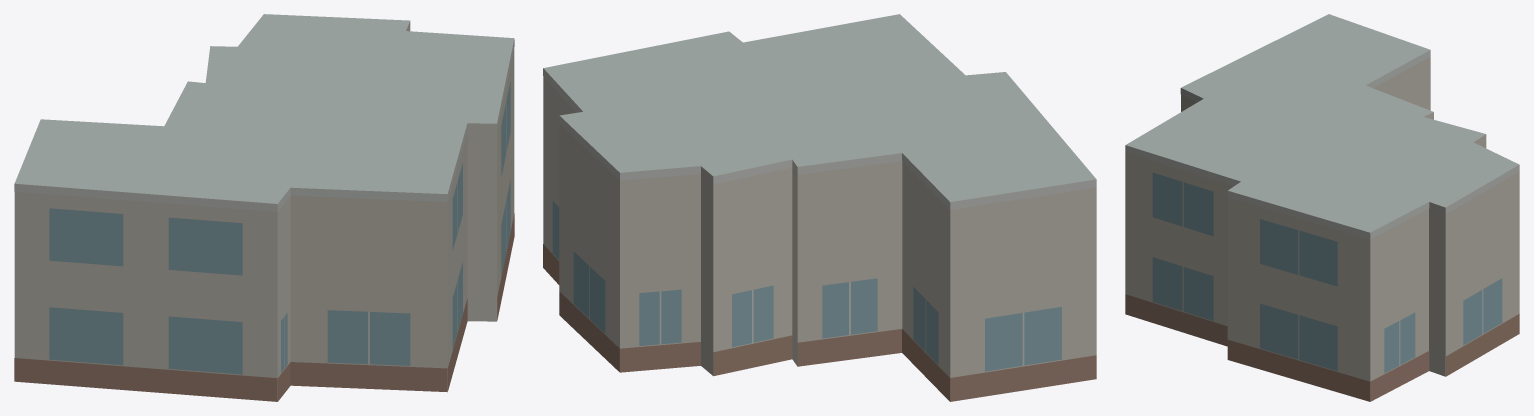
File: survey-upis-32684063.glb
3 views of the same model, side by side, from view 1: azimuth 30°, elevation 25°; view 2: azimuth 150°, elevation 25°; view 3: azimuth 270°, elevation 25° (orthographic). The views are drawn at different scales.
Visible parts, largest first — view 1: survey-upis-32684063.tmp; view 2: survey-upis-32684063.tmp; view 3: survey-upis-32684063.tmp.
Part boxes in pixels (x1,y1,x2,y2): survey-upis-32684063.tmp: [14, 14, 514, 401]; survey-upis-32684063.tmp: [543, 14, 1096, 401]; survey-upis-32684063.tmp: [1125, 14, 1519, 401].
Bounding box in the file's own units: 16.92 × 6.1 × 12.89.
